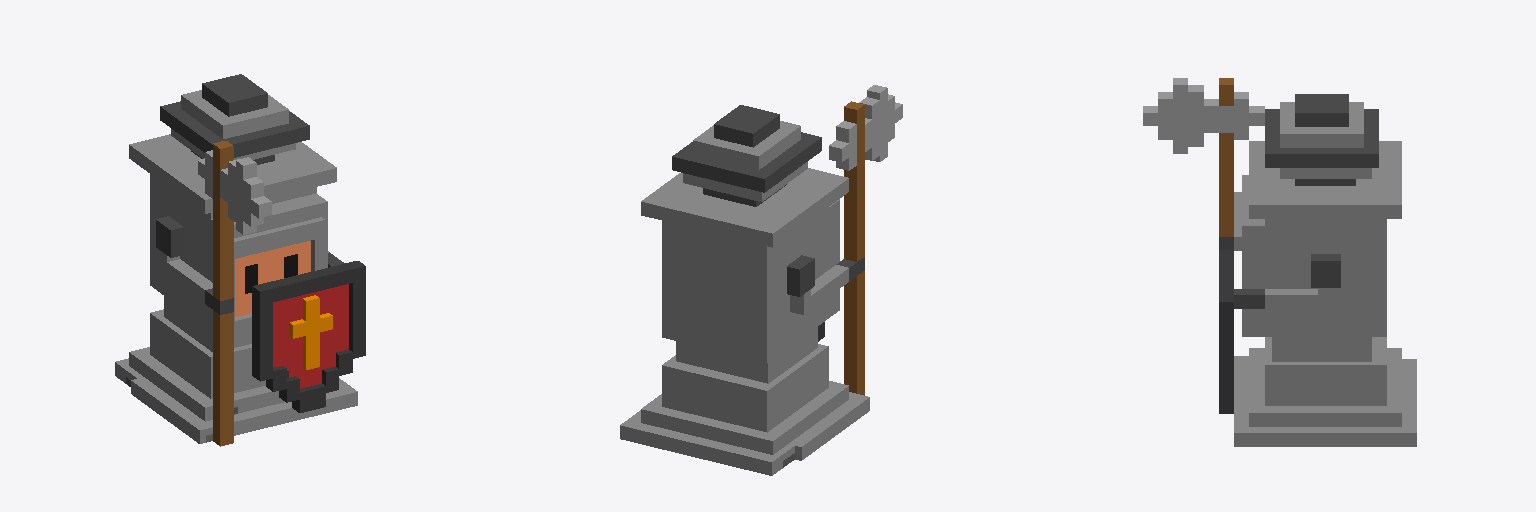
3 views of the same model, side by side, from view 1: azimuth 30°, elevation 25°; view 2: azimuth 150°, elevation 25°; view 3: azimuth 270°, elevation 25° (orthographic).
Parts seen in each view (by area): view 1: object 1; view 2: object 1; view 3: object 1.
Part boxes in pixels (x1,y1,x2,y2): object 1: (115, 74, 365, 446); object 1: (620, 85, 902, 475); object 1: (1143, 78, 1416, 446).
Bounding box in the file's own units: 2.4 × 4.4 × 3.6.
1 materials, 1 textured.